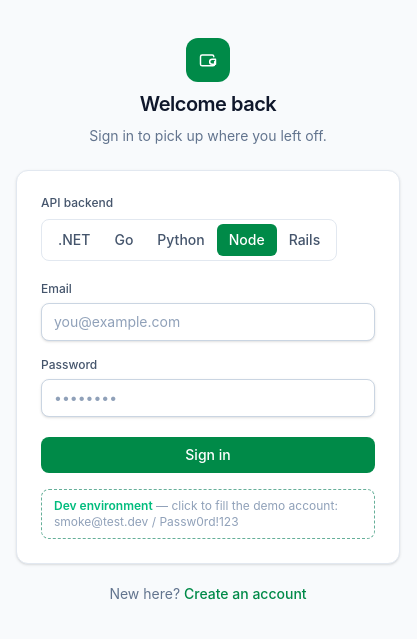
LoginPage › requires an email and a password
Click the button "Sign in". click: (208, 455)
box: [41, 437, 375, 473]
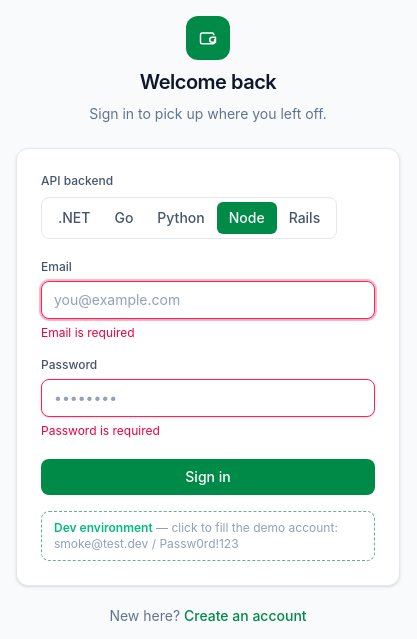
Expected: the text "Email is required" is shown, [41, 325, 135, 340]
Expected: the text "Password is required" is shown, [41, 423, 160, 438]
